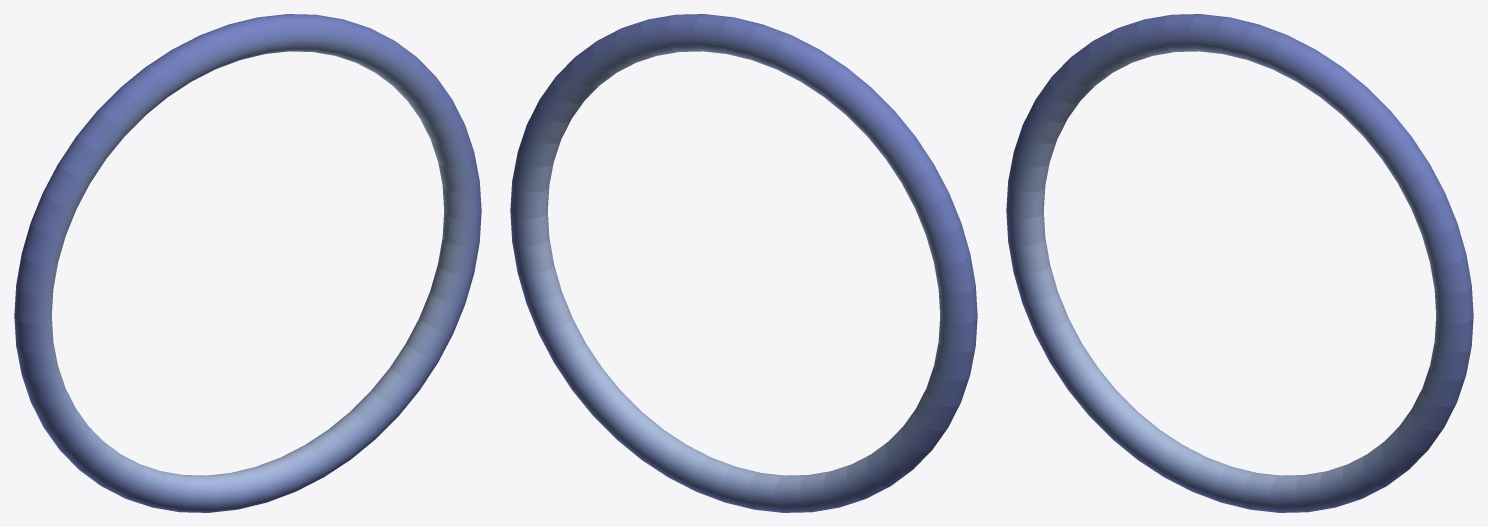
The picture shows the model from 3 angles, left to right: view 1: azimuth 30°, elevation 25°; view 2: azimuth 150°, elevation 25°; view 3: azimuth 330°, elevation 25°; orthographic projection.
Parts seen in each view (by area): view 1: world; view 2: world; view 3: world.
Part boxes in pixels (bbox=[...]): world: bbox=[14, 14, 481, 512]; world: bbox=[510, 14, 977, 512]; world: bbox=[1006, 14, 1473, 512].
Bounding box in the file's own units: 32.27 × 32.2 × 2.26.
